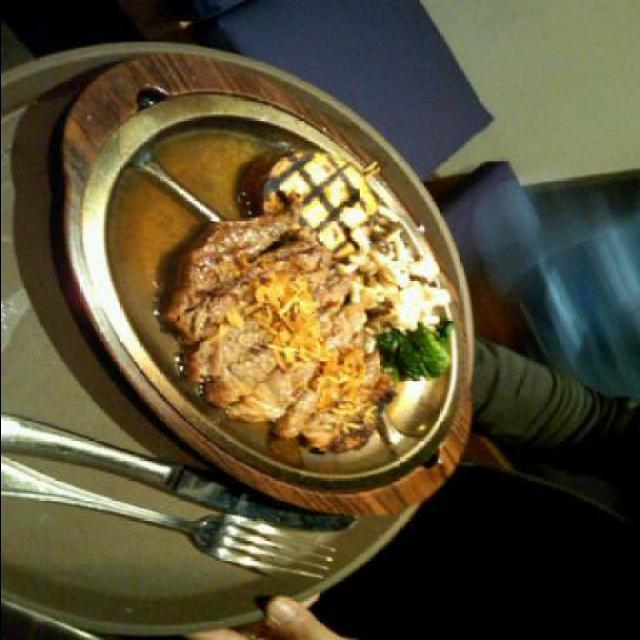Steak: (163, 114, 445, 472)
